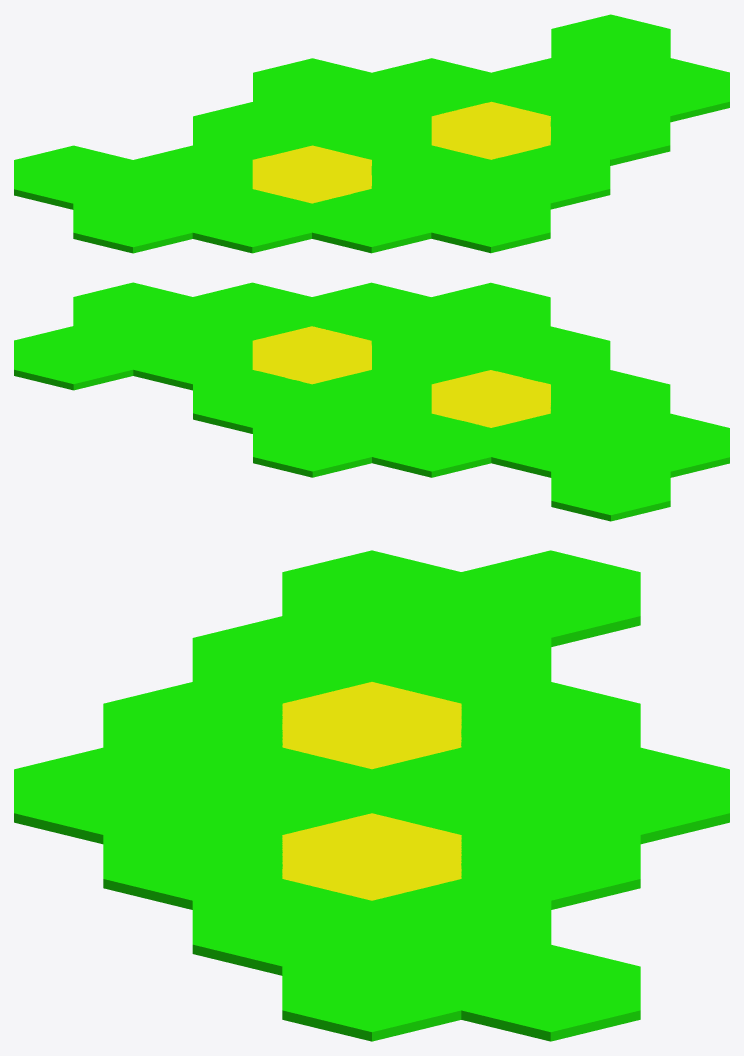
The model's file is HubBase.fbx.
The picture shows the model from 3 angles, top to bottom: view 1: azimuth 30°, elevation 25°; view 2: azimuth 150°, elevation 25°; view 3: azimuth 270°, elevation 25°; orthographic projection. The views are drawn at different scales.
Parts seen in each view (by area): view 1: MasterHex_10, MasterHex_11, MasterHex_7, MasterHex_9, MasterHex_5, MasterHex_17, MasterHex_6, MasterHex_4, MasterHex_13, MasterHex_2, MasterHex, MasterHex_3 (+6 smaller); view 2: MasterHex_2, MasterHex_13, MasterHex_17, MasterHex_15, MasterHex_11, MasterHex_3, MasterHex_12, MasterHex_16, MasterHex_7, MasterHex_10, MasterHex_1, MasterHex_4 (+6 smaller); view 3: MasterHex_2, MasterHex_4, MasterHex_5, MasterHex_7, MasterHex_17, MasterHex_6, MasterHex_16, MasterHex_15, MasterHex_3, MasterHex_10, MasterHex_12, MasterHex_8 (+6 smaller).
Part boxes in pixels (<box>): MasterHex_10: <box>192,189,311,253</box>; MasterHex_11: <box>73,189,192,253</box>; MasterHex_7: <box>431,189,550,253</box>; MasterHex_9: <box>312,189,431,253</box>; MasterHex_5: <box>550,101,670,165</box>; MasterHex_17: <box>14,145,133,209</box>; MasterHex_6: <box>491,145,610,209</box>; MasterHex_4: <box>610,58,729,122</box>; MasterHex_13: <box>193,102,312,159</box>; MasterHex_2: <box>551,14,670,72</box>; MasterHex: <box>431,101,550,159</box>; MasterHex_3: <box>491,58,610,115</box>; MasterHex_2: <box>14,326,133,390</box>; MasterHex_13: <box>372,413,491,477</box>; MasterHex_17: <box>551,457,670,521</box>; MasterHex_15: <box>253,413,372,477</box>; MasterHex_11: <box>610,413,729,477</box>; MasterHex_3: <box>133,326,252,390</box>; MasterHex_12: <box>491,413,610,477</box>; MasterHex_16: <box>193,370,312,433</box>; MasterHex_7: <box>431,282,550,340</box>; MasterHex_10: <box>550,370,670,427</box>; MasterHex_1: <box>431,370,550,427</box>; MasterHex_4: <box>73,282,192,340</box>; MasterHex_2: <box>461,944,640,1041</box>; MasterHex_4: <box>282,944,461,1041</box>; MasterHex_5: <box>192,879,372,975</box>; MasterHex_7: <box>14,747,193,844</box>; MasterHex_17: <box>461,550,640,646</box>; MasterHex_6: <box>103,813,282,909</box>; MasterHex_16: <box>461,813,640,909</box>; MasterHex_15: <box>550,747,729,844</box>; MasterHex_3: <box>371,879,551,966</box>; MasterHex_10: <box>192,616,372,703</box>; MasterHex_12: <box>371,616,551,703</box>; MasterHex_8: <box>192,747,372,834</box>.
Bounding box in the file's own units: 11000 × 100 × 6907.
